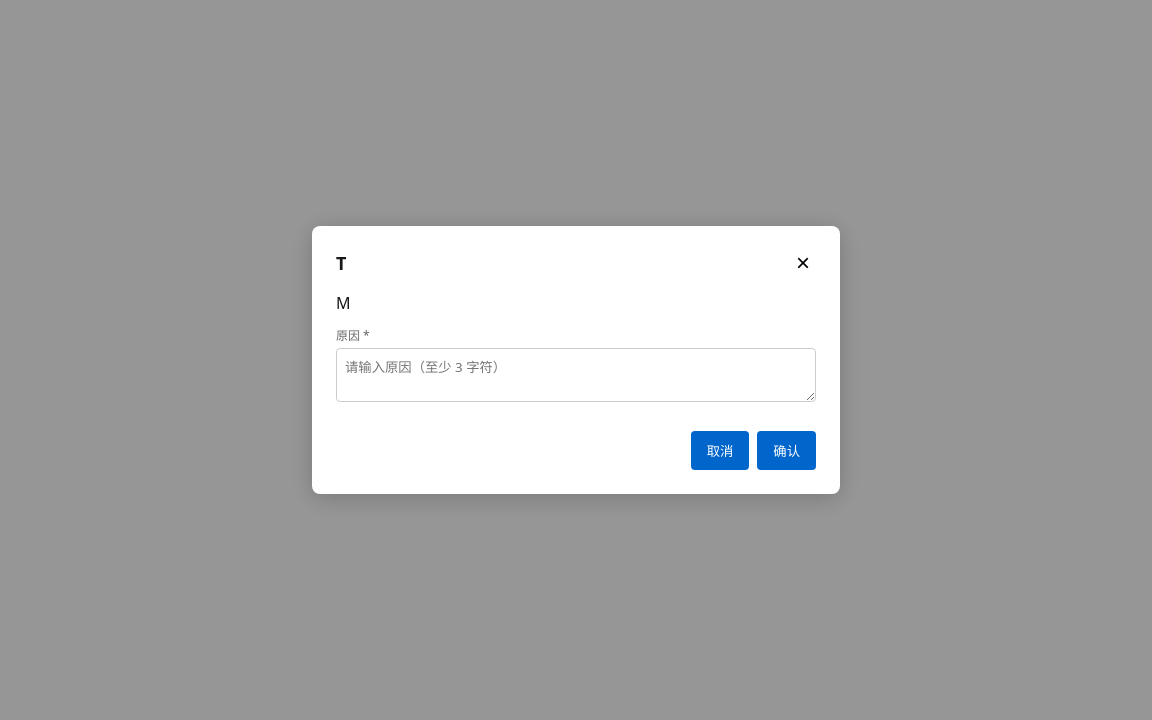
Test: ConfirmModal (Sub-D3) › 6. requireReason=true shows textarea + blocks short input
Check: the text box with test id "confirm-modal-reason" is shown, box [336,348,816,402]
Click the button with test id "confirm-modal-confirm" at (787, 450), box [757,431,816,470]
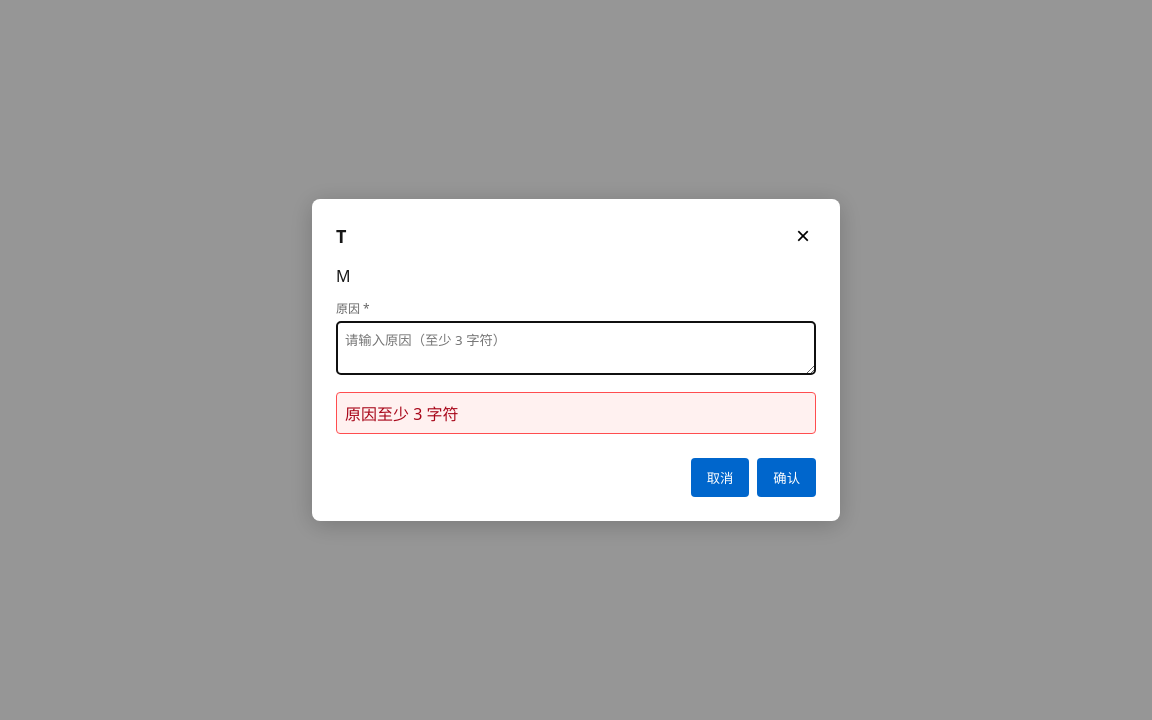
Check: the text "原因至少 3 字符" is shown, box [336,392,816,434]
